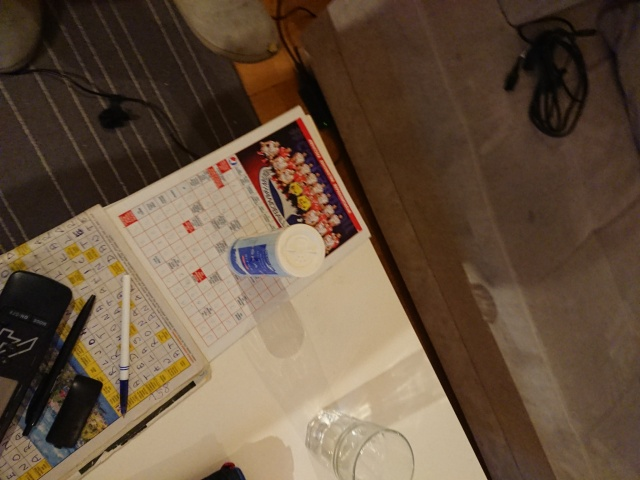Solana Pag Fine Sea Salt 250g: (222, 219, 329, 284)
